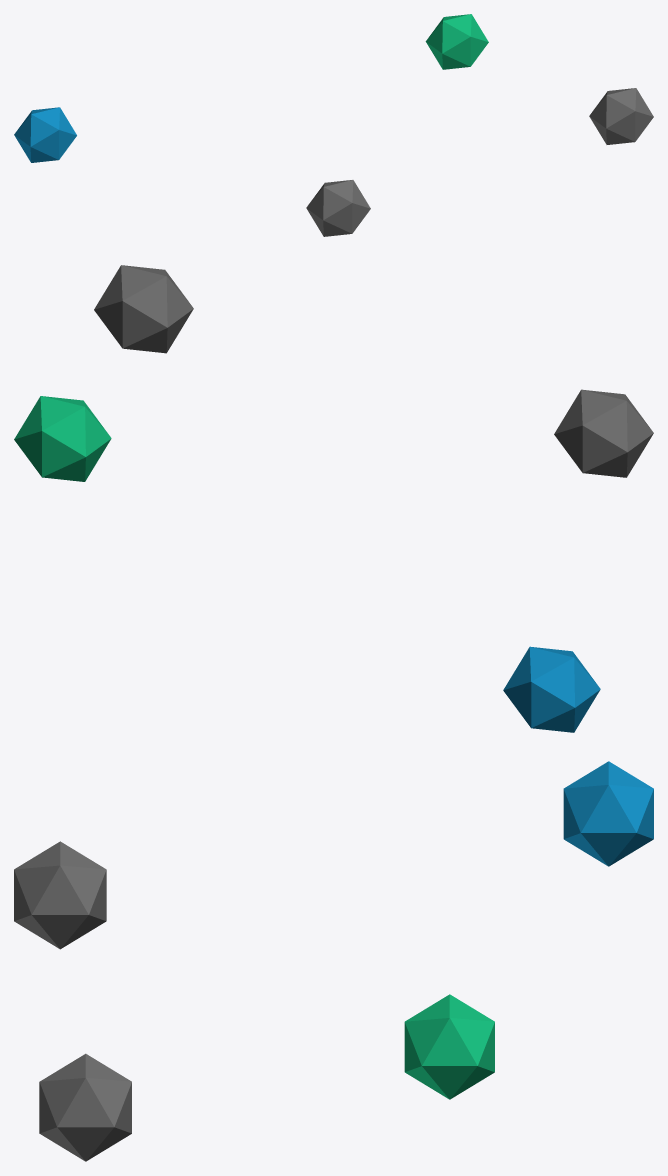
3 views of the same model, one above another, from view 1: azimuth 30°, elevation 25°; view 2: azimuth 150°, elevation 25°; view 3: azimuth 270°, elevation 25° (orthographic). The views are drawn at different scales.
Visible parts, largest first — view 1: 07_03_00; view 2: 07_03_00; view 3: 07_03_00.
Boxes of the visible parts, <box> form: 07_03_00: <box>14,14,653,236</box>; 07_03_00: <box>14,265,653,732</box>; 07_03_00: <box>14,761,653,1161</box>.
Size of the model in its own units: 0.5437 by 0.0976 by 0.384.
